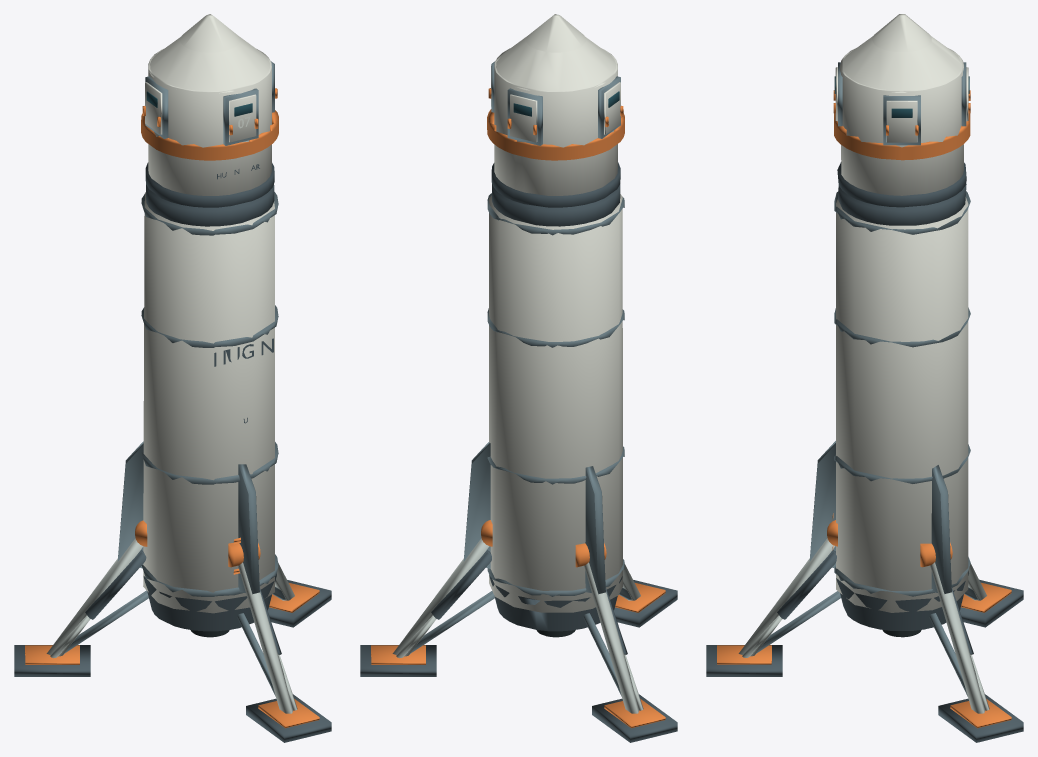
Rendered from hugin_deployed.glb.
3 views of the same model, side by side, from view 1: azimuth 30°, elevation 25°; view 2: azimuth 150°, elevation 25°; view 3: azimuth 270°, elevation 25° (orthographic).
Parts seen in each view (by area): view 1: Booster propellant hull, Cargo pressure hull, Cargo ogive shoulder, Booster engine skirt, Cargo mating collar, Cargo capture collar, Thermal descent fin, Landing main strut, Thermal descent fin.002, Cargo separation ring, Cargo nose, FLAT_LANDING_FOOT_01 (+16 smaller); view 2: Booster propellant hull, Cargo pressure hull, Cargo ogive shoulder, Cargo mating collar, Booster engine skirt, Cargo capture collar, Thermal descent fin.002, Thermal descent fin.001, Landing main strut.002, Cargo separation ring, Cargo nose, FLAT_LANDING_FOOT_03 (+16 smaller); view 3: Booster propellant hull, Cargo pressure hull, Cargo ogive shoulder, Booster engine skirt, Cargo mating collar, Cargo capture collar, Thermal descent fin.001, Landing main strut.001, Thermal descent fin, Cargo separation ring, Cargo nose, FLAT_LANDING_FOOT_02 (+15 smaller).
Boxes of the visible parts, box(x1,y1,x2,y2) form: Booster propellant hull: box(143, 192, 274, 613); Cargo pressure hull: box(148, 49, 271, 195); Cargo ogive shoulder: box(149, 36, 269, 93); Booster engine skirt: box(143, 574, 276, 631); Cargo mating collar: box(146, 184, 274, 226); Cargo capture collar: box(141, 110, 278, 160); Thermal descent fin: box(238, 464, 259, 594); Landing main strut: box(238, 562, 293, 713); Thermal descent fin.002: box(117, 441, 143, 568); Cargo separation ring: box(145, 162, 274, 207); Cargo nose: box(180, 14, 240, 52); FLAT_LANDING_FOOT_01: box(246, 694, 331, 742); Booster propellant hull: box(489, 194, 622, 612); Cargo pressure hull: box(494, 48, 617, 195); Cargo ogive shoulder: box(496, 36, 616, 91); Cargo mating collar: box(492, 184, 620, 226); Booster engine skirt: box(489, 575, 622, 631); Cargo capture collar: box(487, 109, 624, 160); Thermal descent fin.002: box(585, 466, 605, 594); Thermal descent fin.001: box(463, 442, 490, 568); Landing main strut.002: box(584, 562, 639, 713); Cargo separation ring: box(491, 162, 620, 207); Cargo nose: box(526, 14, 586, 52); FLAT_LANDING_FOOT_03: box(592, 694, 677, 742); Booster propellant hull: box(836, 197, 968, 612); Cargo pressure hull: box(840, 48, 963, 195); Cargo ogive shoulder: box(843, 36, 963, 92); Booster engine skirt: box(836, 570, 968, 630); Cargo mating collar: box(838, 183, 966, 225); Cargo capture collar: box(834, 113, 970, 160); Thermal descent fin.001: box(931, 465, 951, 593); Landing main strut.001: box(930, 562, 985, 713); Thermal descent fin: box(809, 441, 835, 568); Cargo separation ring: box(837, 162, 966, 207); Cargo nose: box(872, 14, 931, 51); FLAT_LANDING_FOOT_02: box(938, 694, 1023, 742).
Bounding box in the file's own units: 10.93 × 21.39 × 9.46.
